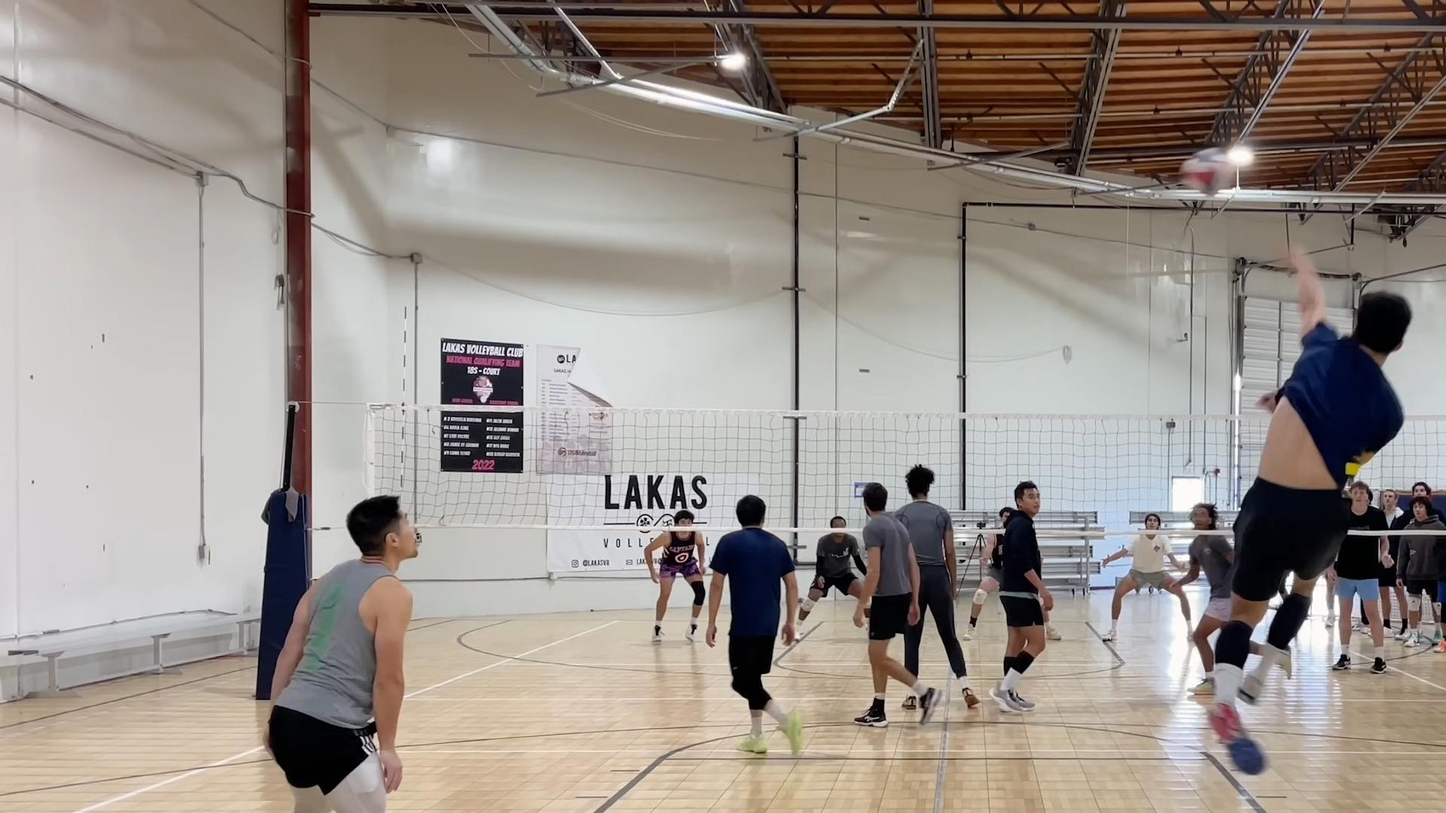Player: (264, 497, 416, 812), (706, 495, 801, 754), (853, 483, 942, 726), (895, 466, 978, 708), (990, 481, 1052, 712), (1101, 513, 1191, 641), (1179, 534, 1233, 693), (644, 510, 705, 643), (962, 507, 1014, 640), (799, 517, 866, 620), (962, 532, 1002, 640)
Serve: (1204, 245, 1412, 782)
ball: (1180, 147, 1234, 195)
